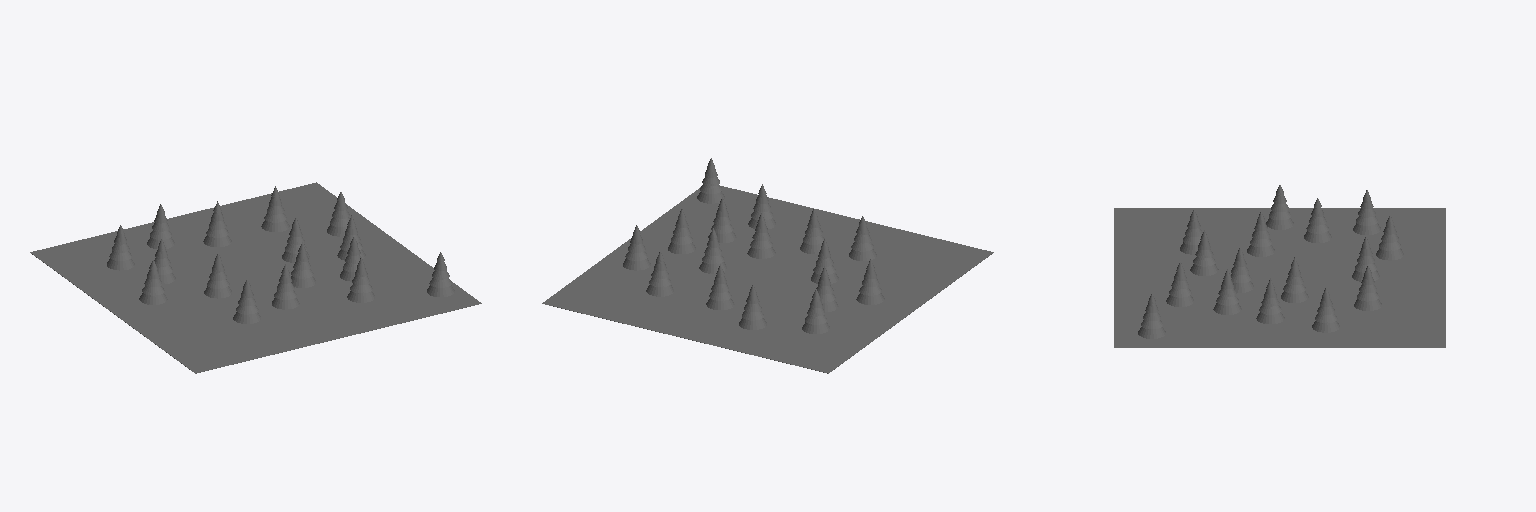
The model's file is Forest1.obj.
The picture shows the model from 3 angles: view 1: azimuth 30°, elevation 25°; view 2: azimuth 150°, elevation 25°; view 3: azimuth 270°, elevation 25°; orthographic projection.
Visible parts, largest first — view 1: grp8; view 2: grp8; view 3: grp8.
Part boxes in pixels (x1,y1,x2,y2): grp8: (30, 182, 481, 373); grp8: (542, 186, 993, 373); grp8: (1114, 208, 1445, 347).
Bounding box in the file's own units: 3160 × 467 × 3160.